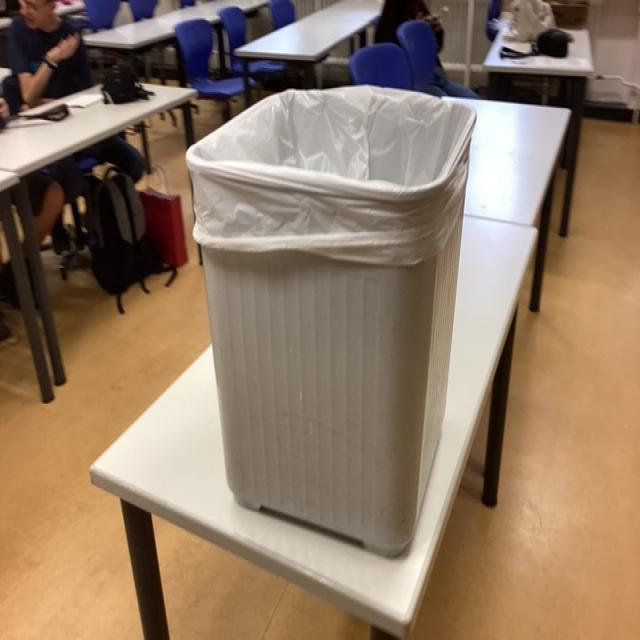garbage container: (159, 53, 524, 554)
